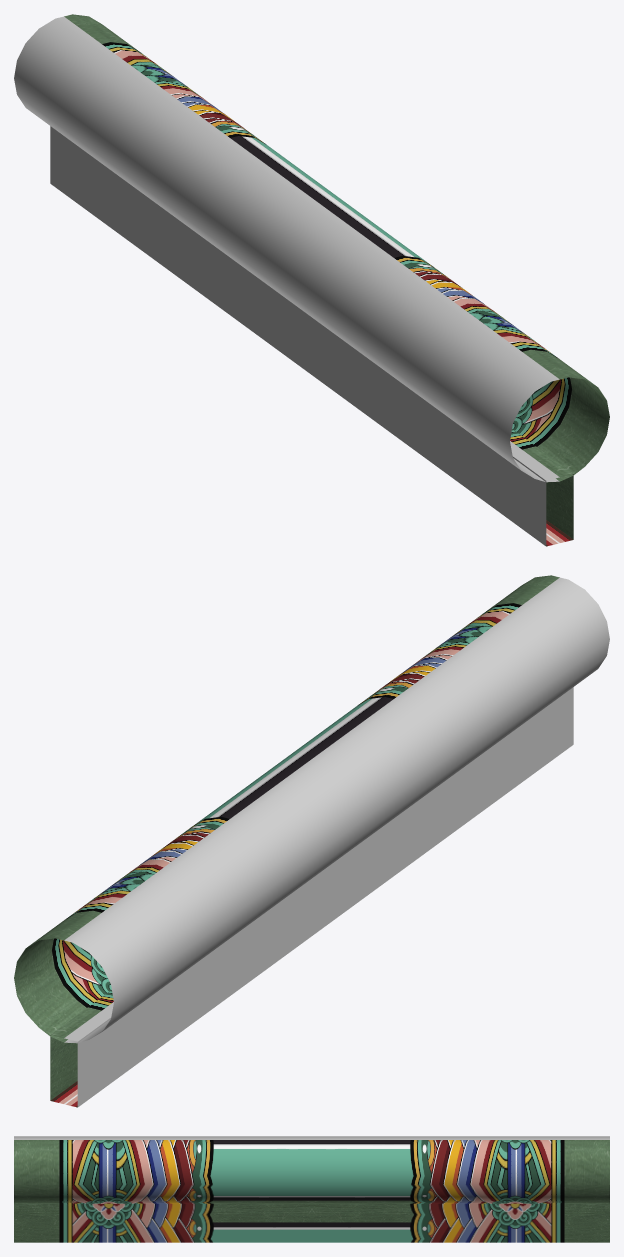
Rendered from SM_CrossBeam08U.fbx.
The picture shows the model from 3 angles, top to bottom: view 1: azimuth 30°, elevation 25°; view 2: azimuth 150°, elevation 25°; view 3: azimuth 270°, elevation 25°; orthographic projection. The views are drawn at different scales.
Visible parts, largest first — view 1: SM_CrossBeam08U; view 2: SM_CrossBeam08U; view 3: SM_CrossBeam08U.
Boxes of the visible parts, x1,y1,x2,y2 form: SM_CrossBeam08U: [14, 14, 609, 546]; SM_CrossBeam08U: [14, 575, 609, 1107]; SM_CrossBeam08U: [14, 1136, 609, 1242].
Bounding box in the file's own units: 28.53 × 245 × 44.62.
